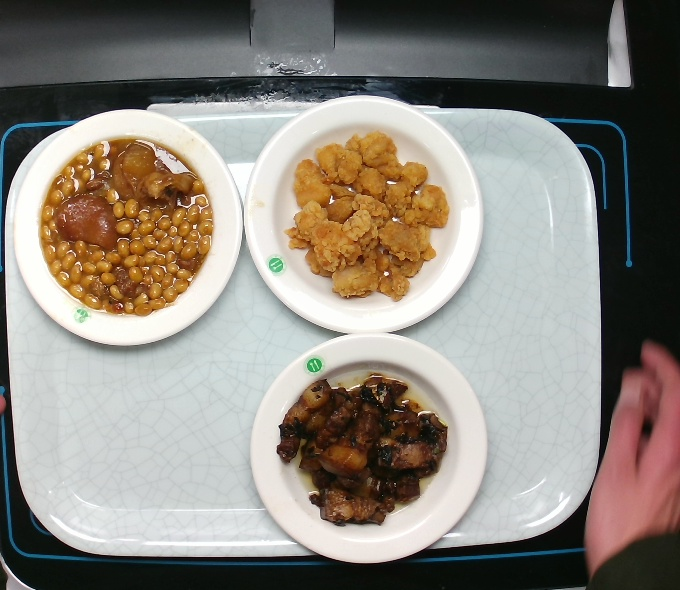wcq-GanCaiRou: (274, 374, 449, 527)
wcq-HuangDouZhuJiao: (38, 136, 215, 317)
wcq-JiMiHua: (284, 130, 450, 306)
